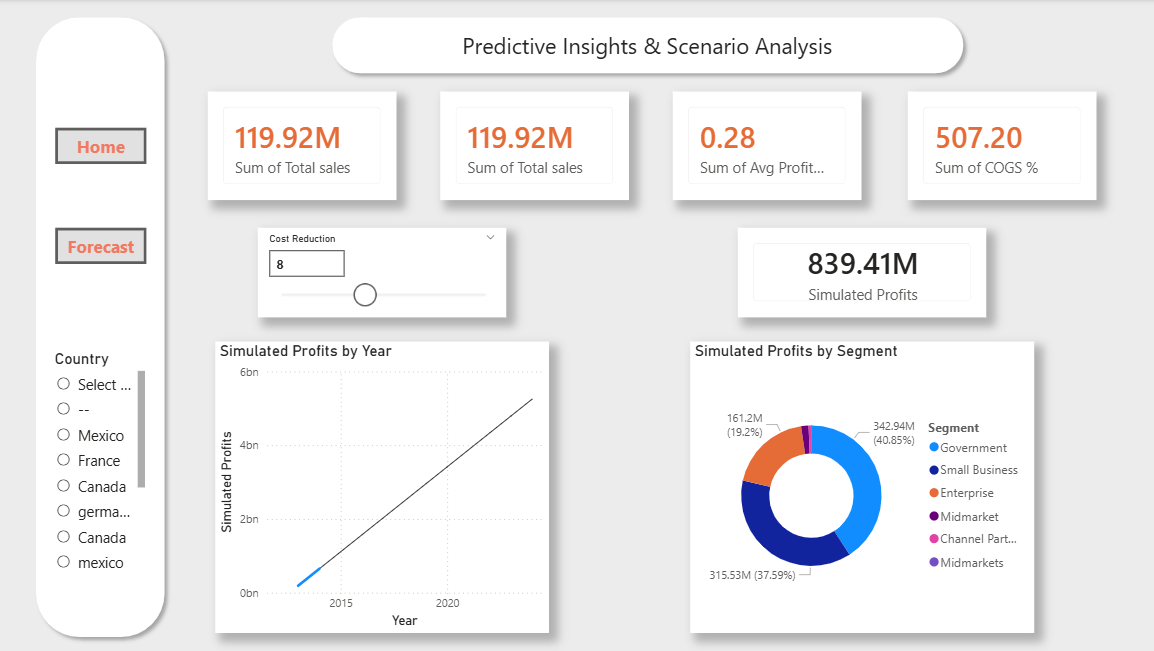

The dashboard page shown, as its layout file describes it:
{"tool":"powerbi","page":{"name":"Page 2","canvas":[1280,720],"ordinal":1},"visuals":[{"type":"shape","box":[31.6,11,159.2,698.5],"z":0},{"type":"actionButton","box":[61.7,141.3,100.2,39.8],"z":1000},{"type":"actionButton","box":[61.7,251.1,100.2,39.8],"z":2000},{"type":"slicer","fields":{"Values":["Cost Reduction.Cost Reduction"]},"box":[284,251.1,273.1,98.8],"z":3000},{"type":"lineChart","fields":{"Y":["Data.Simulated Profits"],"Category":["Data.Year"]},"box":[237.4,376,366.4,319.7],"z":4000},{"type":"cardVisual","fields":{"Data":["Data.Simulated Profits"]},"box":[811,251.1,273.1,98.8],"z":5000},{"type":"donutChart","fields":{"Category":["Data.Segment"],"Y":["Data.Simulated Profits"]},"box":[758.8,376,377.4,319.7],"z":6000},{"type":"cardVisual","fields":{"Data":["Sum(Data.Total sales)"]},"box":[229.2,101.5,207.2,119.4],"z":7000},{"type":"cardVisual","fields":{"Data":["Sum(Data.Total sales)"]},"box":[484.4,101.5,207.2,119.4],"z":8000},{"type":"cardVisual","fields":{"Data":["Sum(Data.Avg Profit Margin)"]},"box":[739.6,101.5,207.2,119.4],"z":9000},{"type":"cardVisual","fields":{"Data":["Sum(Data.COGS %)"]},"box":[997.6,101.5,207.2,119.4],"z":10000},{"type":"listSlicer","fields":{"Values":["Data.Country"]},"box":[56.3,384.2,109.8,259.3],"z":11000},{"type":"shape","box":[356.8,11,710.8,79.6],"z":12000},{"type":"textbox","box":[503.6,30.2,422.6,43.9],"z":12001}]}

Visuals, with their boxes in screenshot pixels (x1, y1, x2, y2), scaled from the page's 1280x720 canvas onto the 1154x651 screenshot:
shape: rect(28, 10, 172, 642)
actionButton: rect(56, 128, 146, 164)
actionButton: rect(56, 227, 146, 263)
slicer - Cost Reduction.Cost Reduction: rect(256, 227, 502, 316)
lineChart - Data.Simulated Profits x Data.Year: rect(214, 340, 544, 629)
cardVisual - Data.Simulated Profits: rect(731, 227, 977, 316)
donutChart - Data.Segment x Data.Simulated Profits: rect(684, 340, 1024, 629)
cardVisual - Sum(Data.Total sales): rect(207, 92, 393, 200)
cardVisual - Sum(Data.Total sales): rect(437, 92, 624, 200)
cardVisual - Sum(Data.Avg Profit Margin): rect(667, 92, 854, 200)
cardVisual - Sum(Data.COGS %): rect(899, 92, 1086, 200)
listSlicer - Data.Country: rect(51, 347, 150, 582)
shape: rect(322, 10, 963, 82)
textbox: rect(454, 27, 835, 67)
